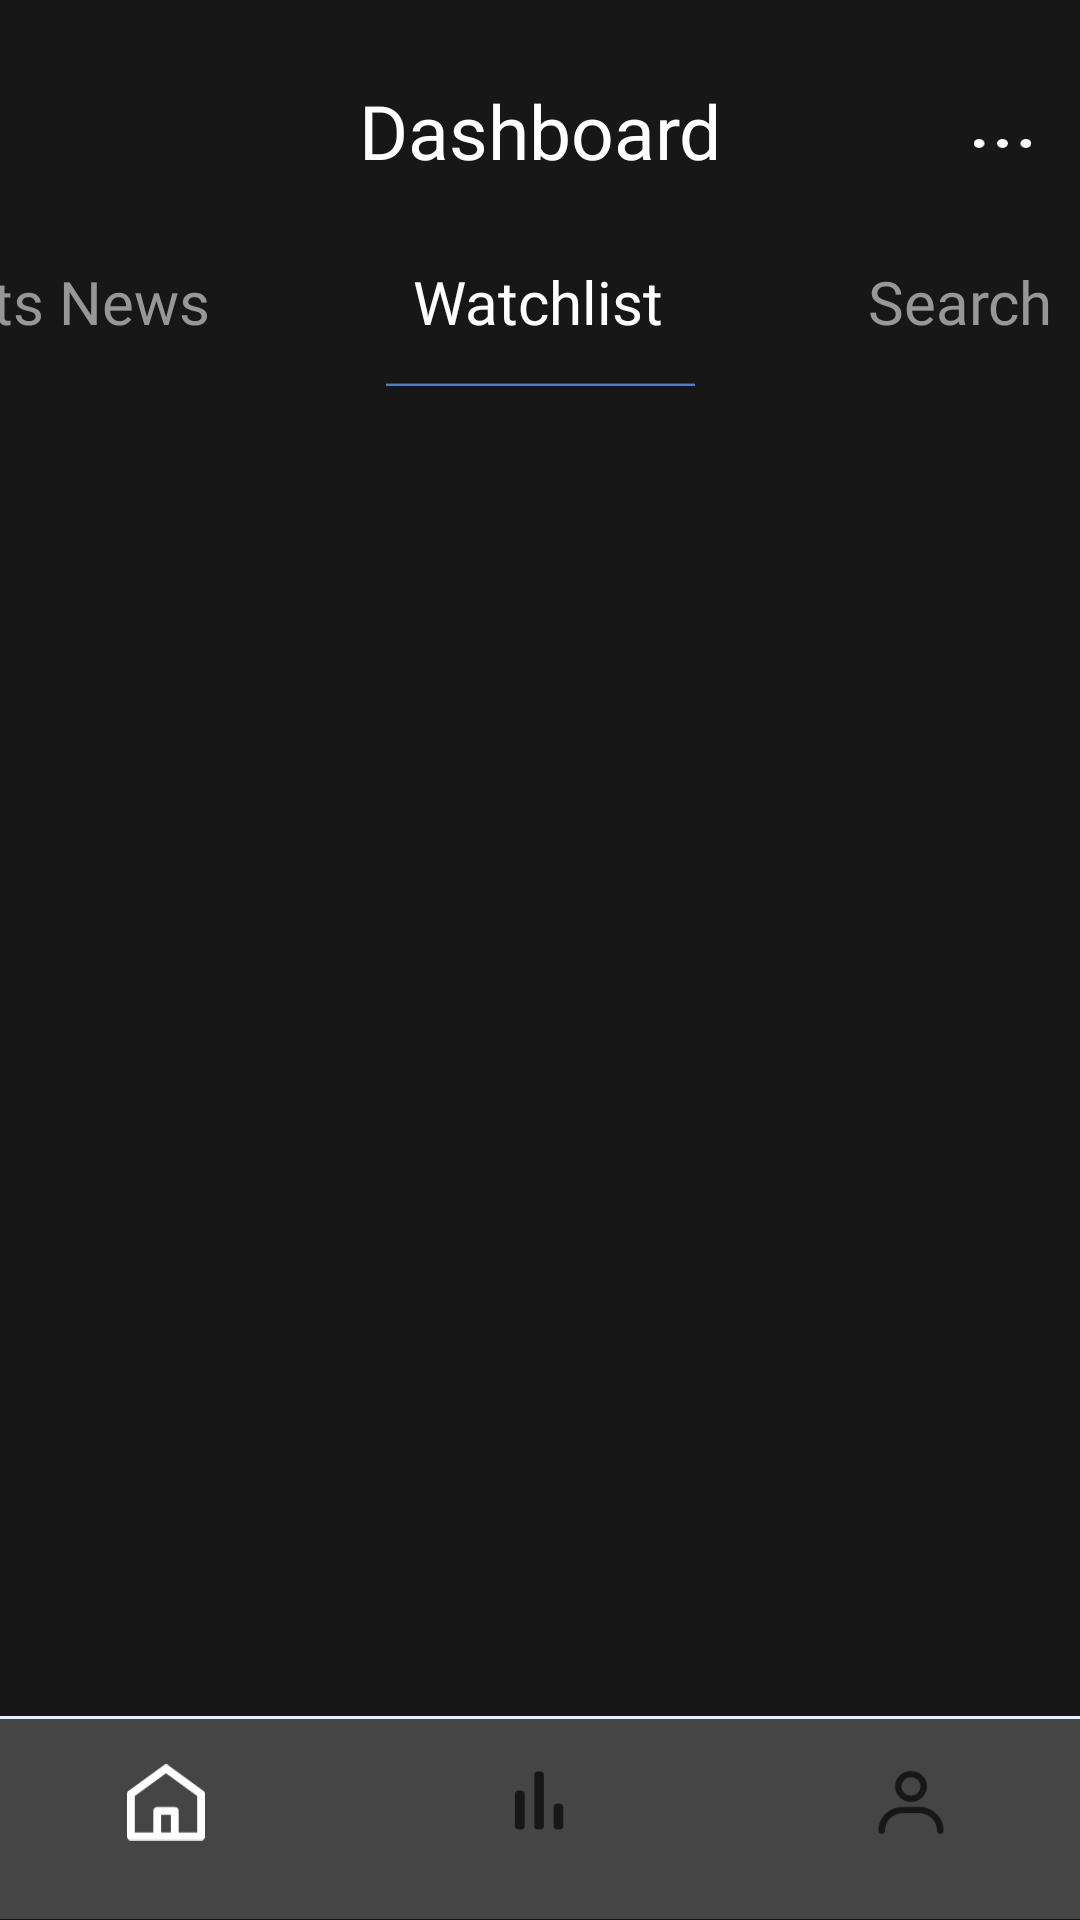

Point at icon controls on the screen. Image size 1080px×1920px, points as (x,y).
home: (166,1802)
stats: (539,1800)
user: (911,1802)
